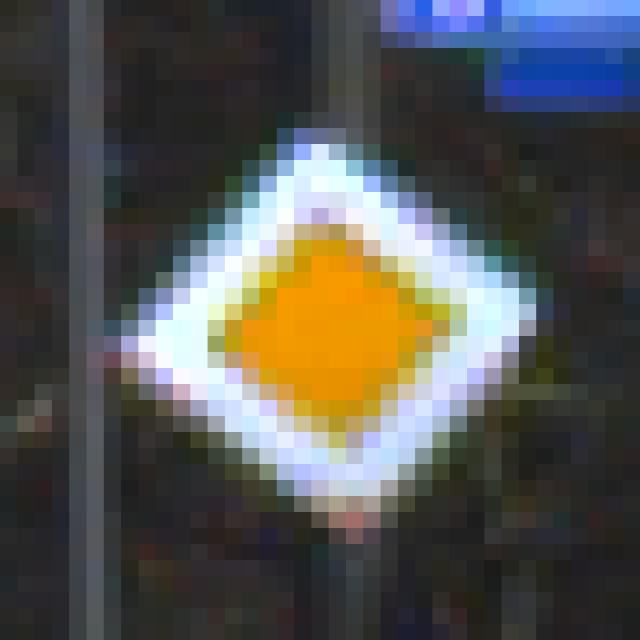Main Road: (105, 81, 554, 561)
